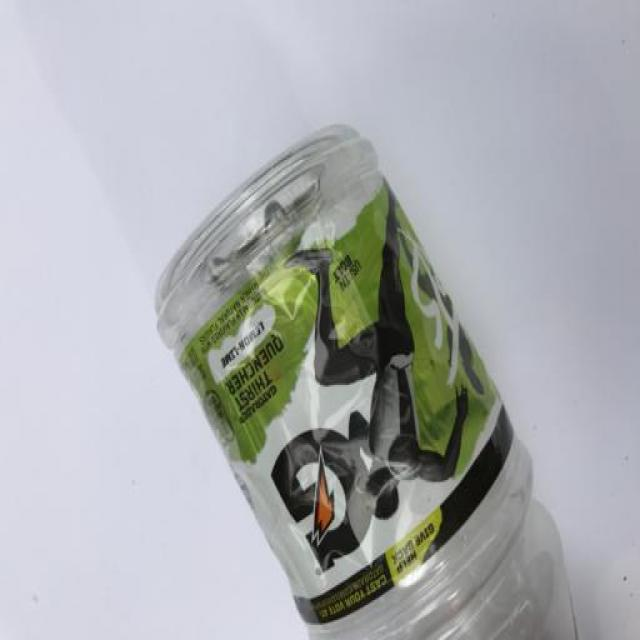plastic_bottle: (123, 116, 623, 640)
